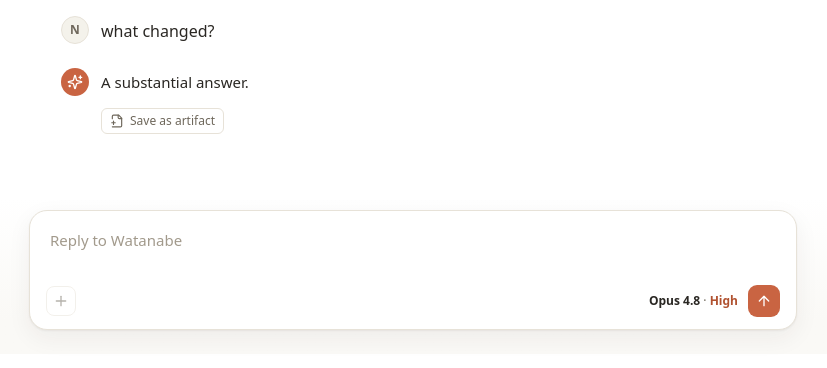
Test: Thread (live runtime) › offers Save as artifact on a completed assistant turn when ARTIFACTS_ENABLED, and POSTs the turn body + live thread id
This screenshot has width=827, height=368.
Expected: the text "A substantial answer." is shown, [101,70,249,96]
Click the button "Save as artifact".
click(162, 120)  # box [101,108,224,134]
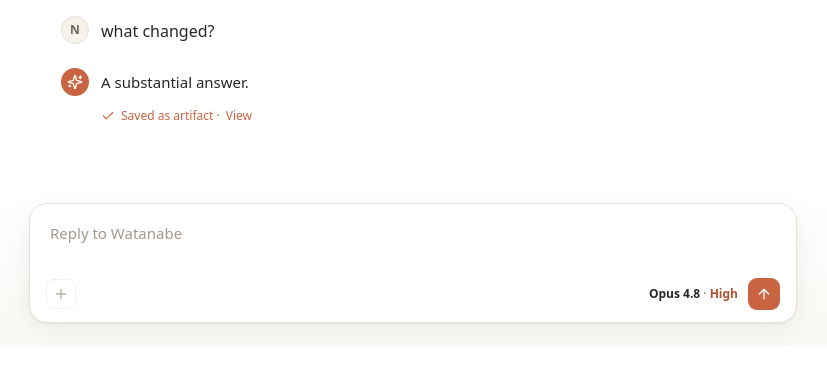
Now the text "Saved as artifact · View" is shown, box [101,108,252,124]
